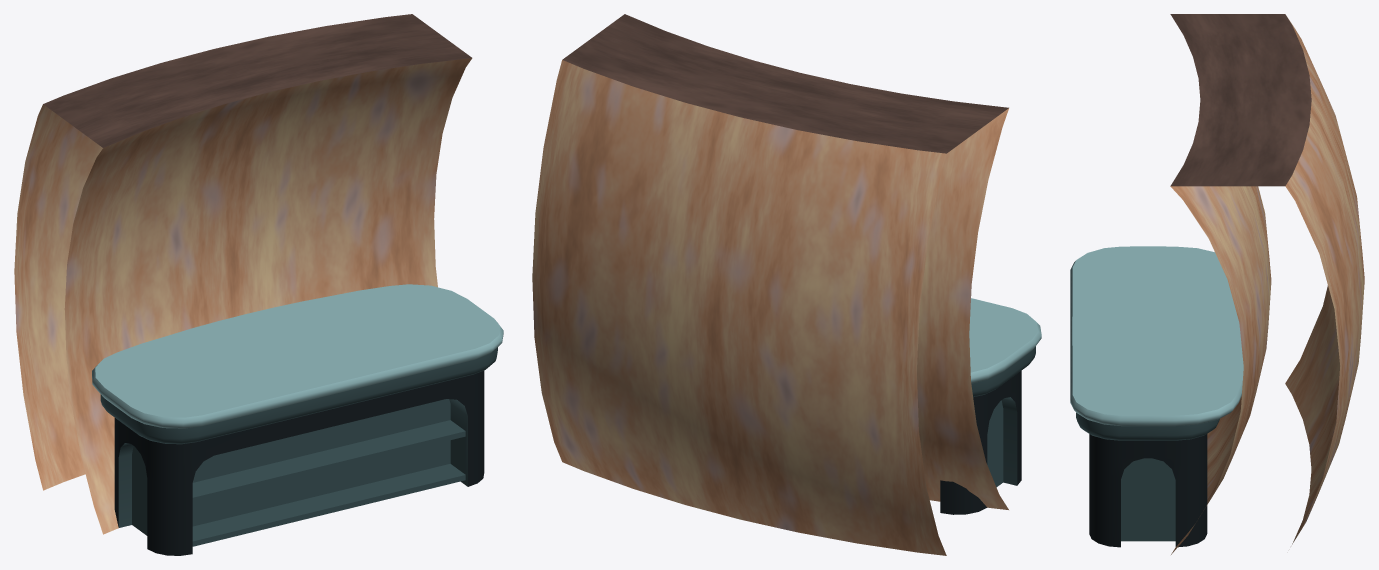
File: FI_043_francos_building_wall_table.glb
The picture shows the model from 3 angles, left to right: view 1: azimuth 30°, elevation 25°; view 2: azimuth 150°, elevation 25°; view 3: azimuth 270°, elevation 25°; orthographic projection. The views are drawn at different scales.
Visible parts, largest first — view 1: wall_table; view 2: wall_table; view 3: wall_table.
Boxes of the visible parts, left/top/right/bottom form: wall_table: left=14, top=14, right=503, bottom=555; wall_table: left=532, top=14, right=1041, bottom=555; wall_table: left=1070, top=14, right=1364, bottom=554.
Bounding box in the file's own units: 3 × 3 × 2.17.
5 materials, 2 textured.
